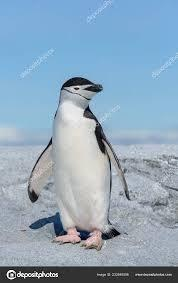chinstrap: (20, 64, 142, 260)
